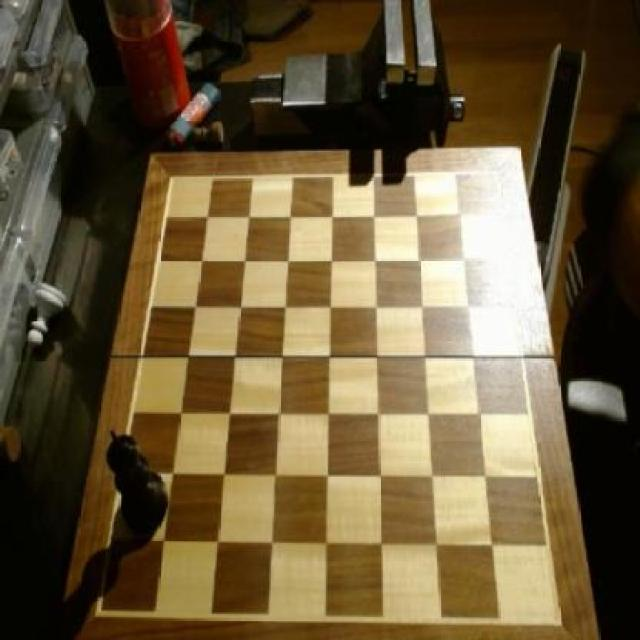black-bishop: (105, 428, 172, 540)
